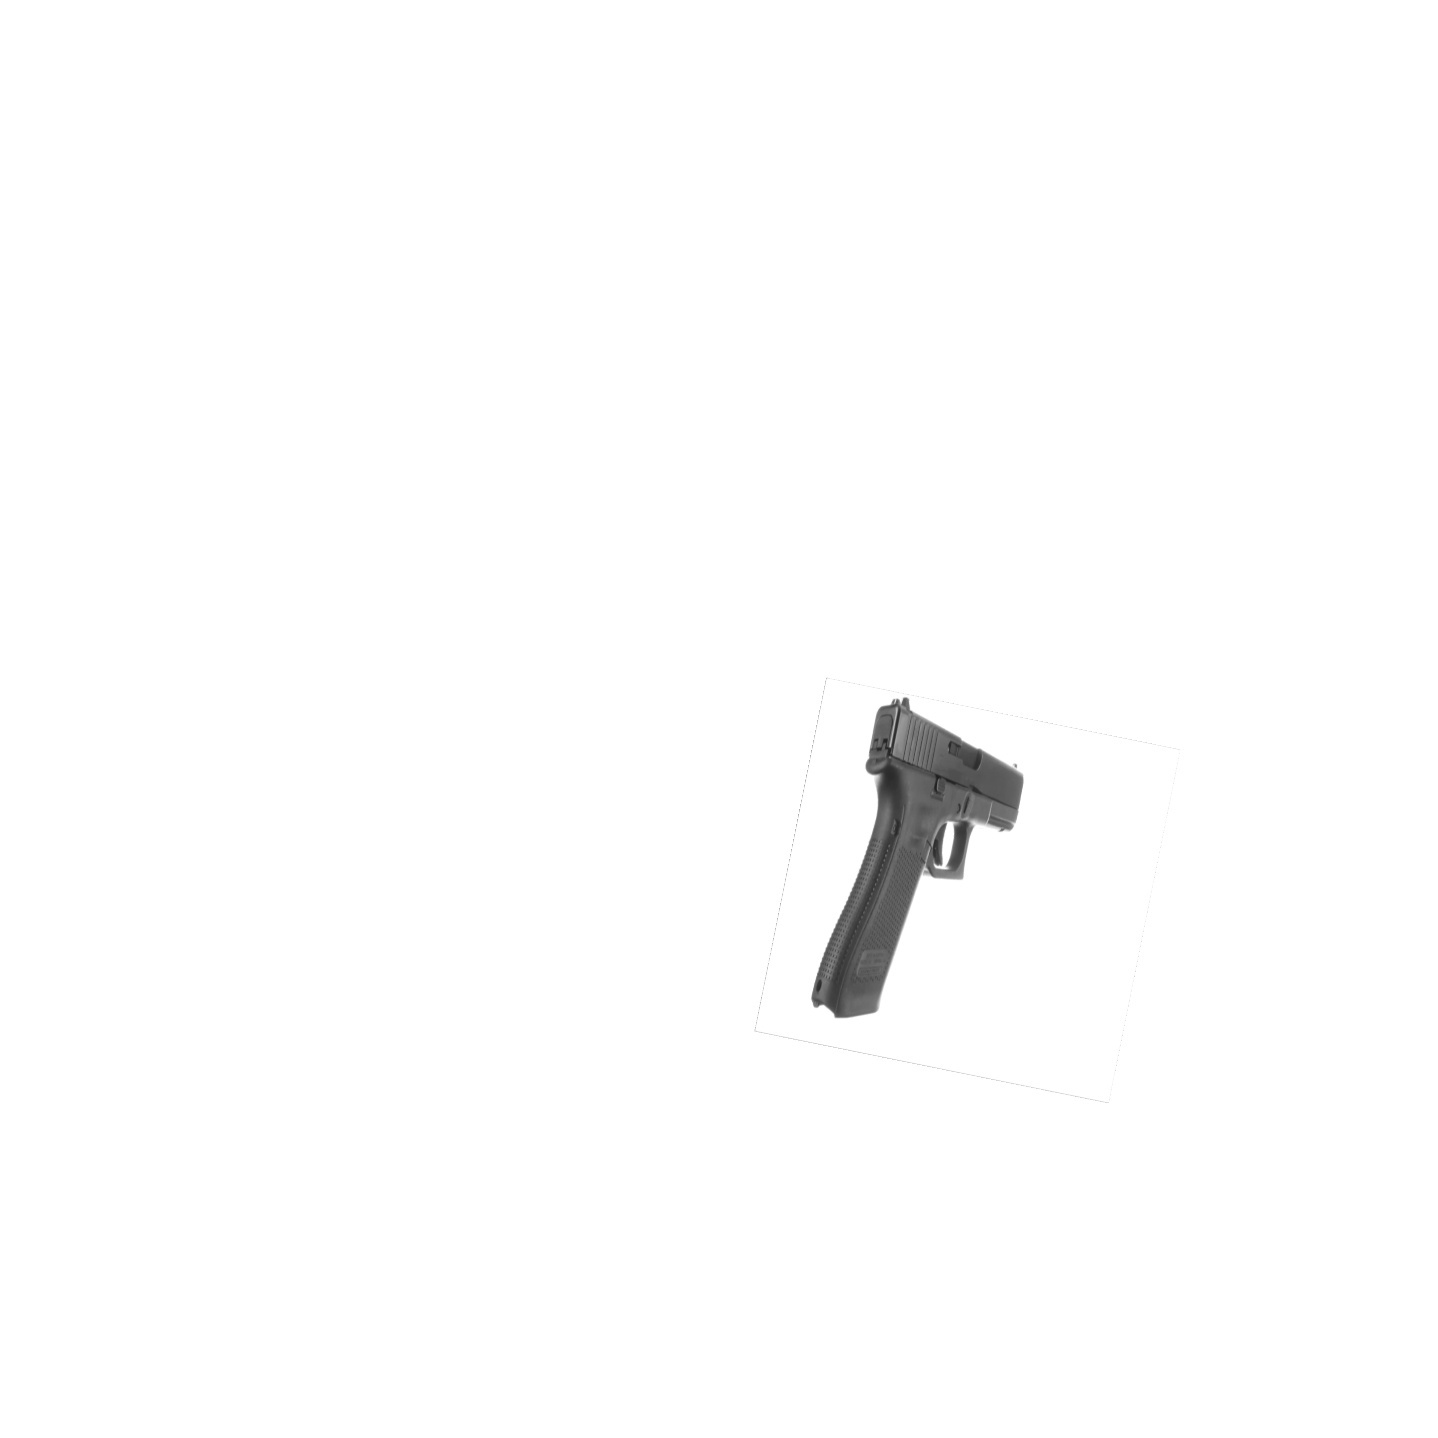gun: (805, 691, 1048, 1034)
